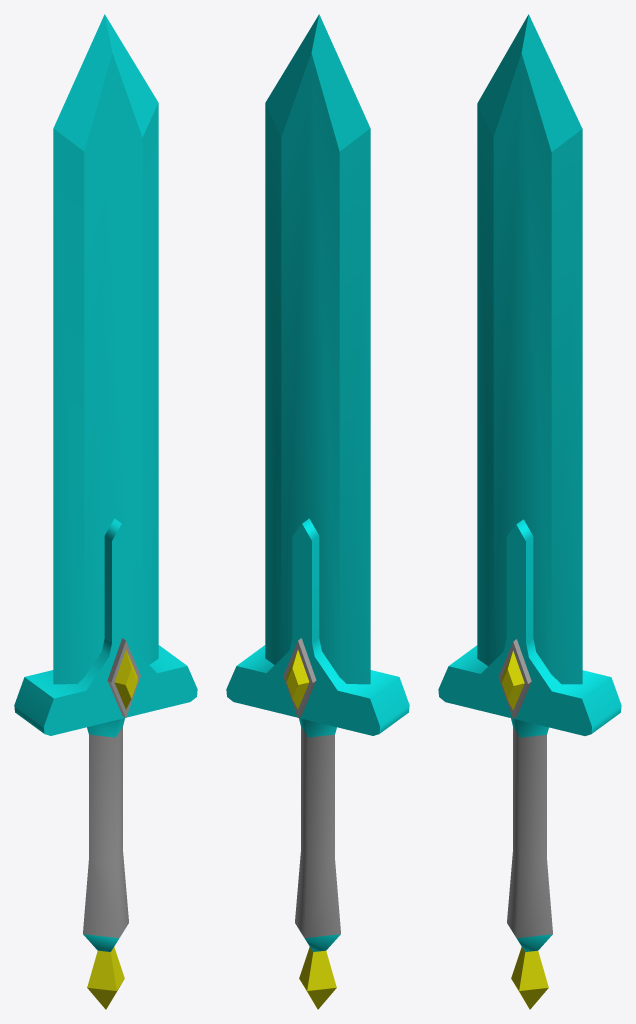
The model's file is Regal_Sword.fbx.
3 renders of one model, left to right at view 1: azimuth 30°, elevation 25°; view 2: azimuth 150°, elevation 25°; view 3: azimuth 330°, elevation 25°, orthographic.
Visible parts, largest first — view 1: Regal_Sword; view 2: Regal_Sword; view 3: Regal_Sword.
Part boxes in pixels (x1=…): Regal_Sword: x1=14, y1=14, x2=197, y2=1009; Regal_Sword: x1=226, y1=14, x2=409, y2=1009; Regal_Sword: x1=438, y1=14, x2=621, y2=1009.
Size of the model in its own units: 49.83 by 308 by 26.86.
